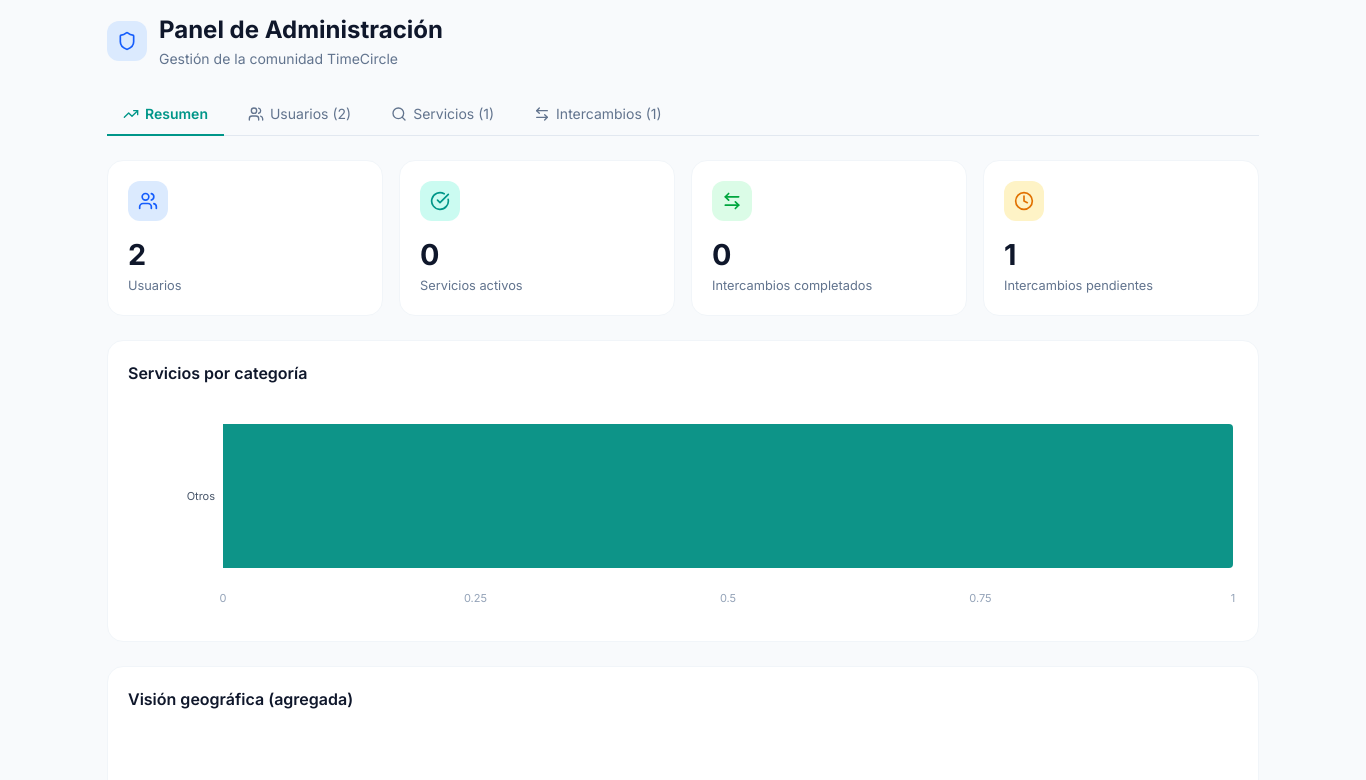
Test case: Admin page › trades tab shows trades entries
What coordinates should you click on to do the following:
click the button "Intercambios (1)"
I would click on:
 (598, 114)
Its box is [518,93,678,136].
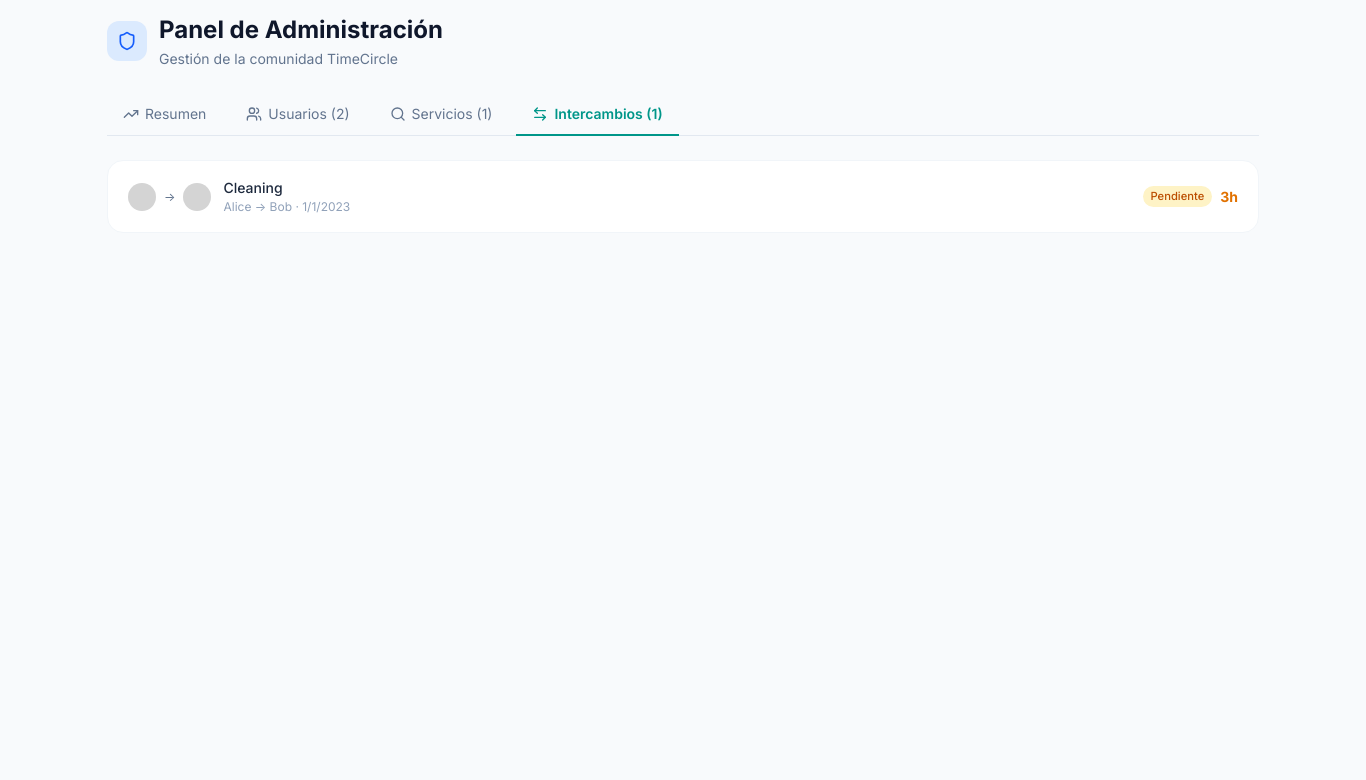
Check: the text "Cleaning" is shown, box [224,179,283,196]
Check: the text "3h" is shown, box [1220,186,1238,207]
